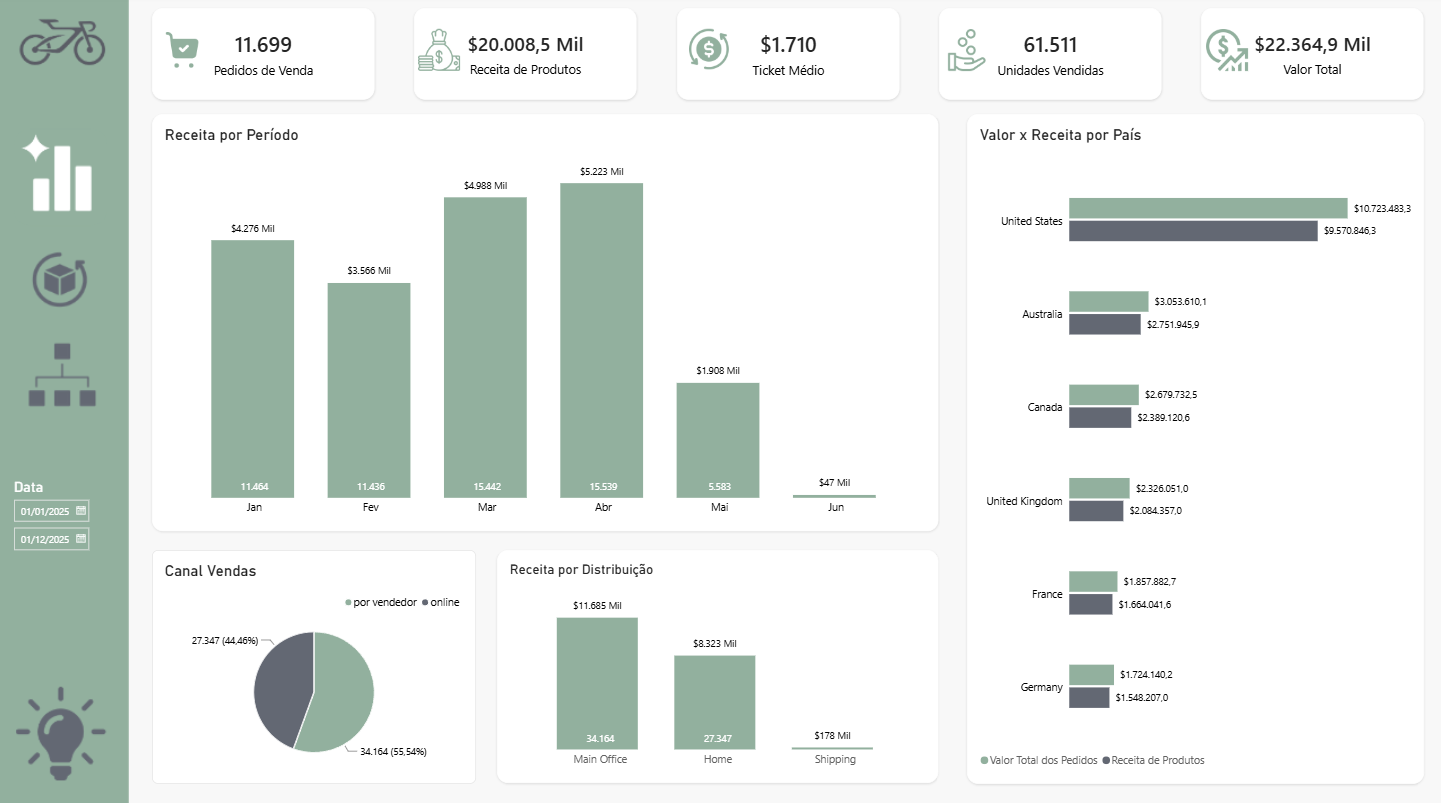

What the dashboard file says about the page in this screenshot:
{"tool":"powerbi","page":{"name":"Estatística","canvas":[1920,1080],"ordinal":0},"visuals":[{"type":"lineStackedColumnComboChart","title":"Receita por Período","fields":{"Category":["dCalendário.Mês Abrev"],"Y2":["Medidas.Unidades Vendidas"],"Y":["Medidas.Receita de Produtos"]},"box":[205,156.5,1045.9,555.5],"z":0},{"type":"card","fields":{"Values":["Medidas.Valor Total dos Pedidos"]},"box":[1600,16,296.5,121.9],"z":1000},{"type":"card","fields":{"Values":["Medidas.Unidades Vendidas"]},"box":[1251.3,16.6,296.5,121.9],"z":2000},{"type":"card","fields":{"Values":["Medidas.Ticket Médio"]},"box":[902.5,16.6,296.5,121.9],"z":3000},{"type":"card","fields":{"Values":["Medidas.Receita de Produtos"]},"box":[553.8,16,296.5,121.9],"z":4000},{"type":"card","fields":{"Values":["Medidas.Pedidos de Venda"]},"box":[205,16.6,296.5,121.9],"z":5000},{"type":"clusteredBarChart","title":"Valor x Receita por País","fields":{"Y":["Medidas.Valor Total dos Pedidos","Medidas.Receita de Produtos"],"Category":["fVendas.pais_regiao"]},"box":[1288.8,156.9,607.8,891.1],"z":6000},{"type":"pieChart","title":"Canal Vendas","fields":{"Y":["Medidas.Unidades Vendidas"],"Category":["fVendas.canal_venda"]},"box":[204.8,736.8,430.9,311.2],"z":7000},{"type":"lineStackedColumnComboChart","title":"Receita por Distribuição","fields":{"Category":["fVendas.tipo_endereco"],"Y2":["Medidas.Unidades Vendidas"],"Y":["Medidas.Receita de Produtos"]},"box":[663.5,737,587.4,310.3],"z":8000},{"type":"image","box":[919.1,42.6,53.2,55.9],"z":9000},{"type":"image","box":[1255.6,43.9,66.5,55.9],"z":10000},{"type":"image","box":[1602.7,43.9,63.8,55.9],"z":11000},{"type":"image","box":[558.6,42.6,55.9,57.2],"z":12000},{"type":"image","box":[208.8,42.6,71.8,57.2],"z":13000},{"type":"slicer","fields":{"Values":["dCalendário.Data"]},"box":[13.9,640.9,148.8,190.5],"z":14000},{"type":"actionButton","box":[13.3,917.7,149,149],"z":14001}]}

Visuals, with their boxes in screenshot pixels (x1, y1, x2, y2), scaled from the page's 1920x1080 canvas onto the 1441x803 screenshot:
"Receita por Período" lineStackedColumnComboChart: <bbox>154, 116, 939, 529</bbox>
card - Medidas.Valor Total dos Pedidos: <bbox>1201, 12, 1423, 103</bbox>
card - Medidas.Unidades Vendidas: <bbox>939, 12, 1162, 103</bbox>
card - Medidas.Ticket Médio: <bbox>677, 12, 900, 103</bbox>
card - Medidas.Receita de Produtos: <bbox>416, 12, 638, 103</bbox>
card - Medidas.Pedidos de Venda: <bbox>154, 12, 376, 103</bbox>
"Valor x Receita por País" clusteredBarChart: <bbox>967, 117, 1423, 779</bbox>
"Canal Vendas" pieChart: <bbox>154, 548, 477, 779</bbox>
"Receita por Distribuição" lineStackedColumnComboChart: <bbox>498, 548, 939, 779</bbox>
image: <bbox>690, 32, 730, 73</bbox>
image: <bbox>942, 33, 992, 74</bbox>
image: <bbox>1203, 33, 1251, 74</bbox>
image: <bbox>419, 32, 461, 74</bbox>
image: <bbox>157, 32, 211, 74</bbox>
slicer - dCalendário.Data: <bbox>10, 477, 122, 618</bbox>
actionButton: <bbox>10, 682, 122, 793</bbox>
